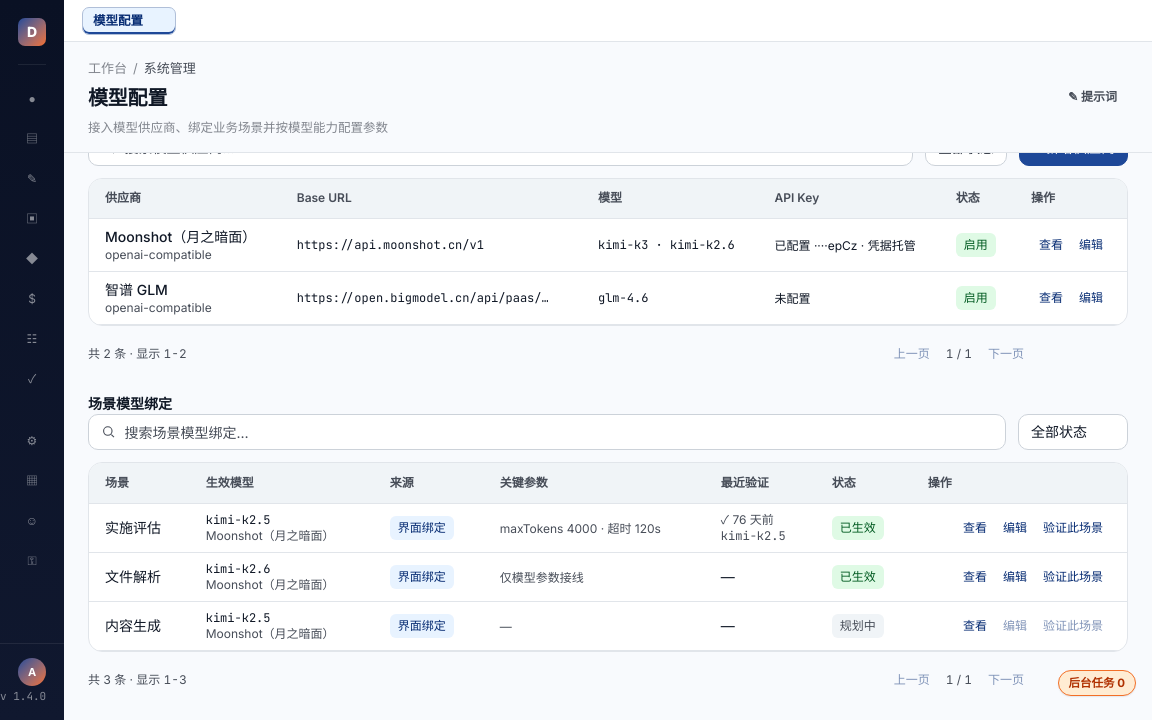
it: ModelConfig · 表格 + 行详情（RP-053） › 明确查看入口打开统一详情，保留接线与差异并可关闭
(page scrolled)
Click the button with aria-label "查看 实施评估" at point(975, 528), box [955,512,995,544]
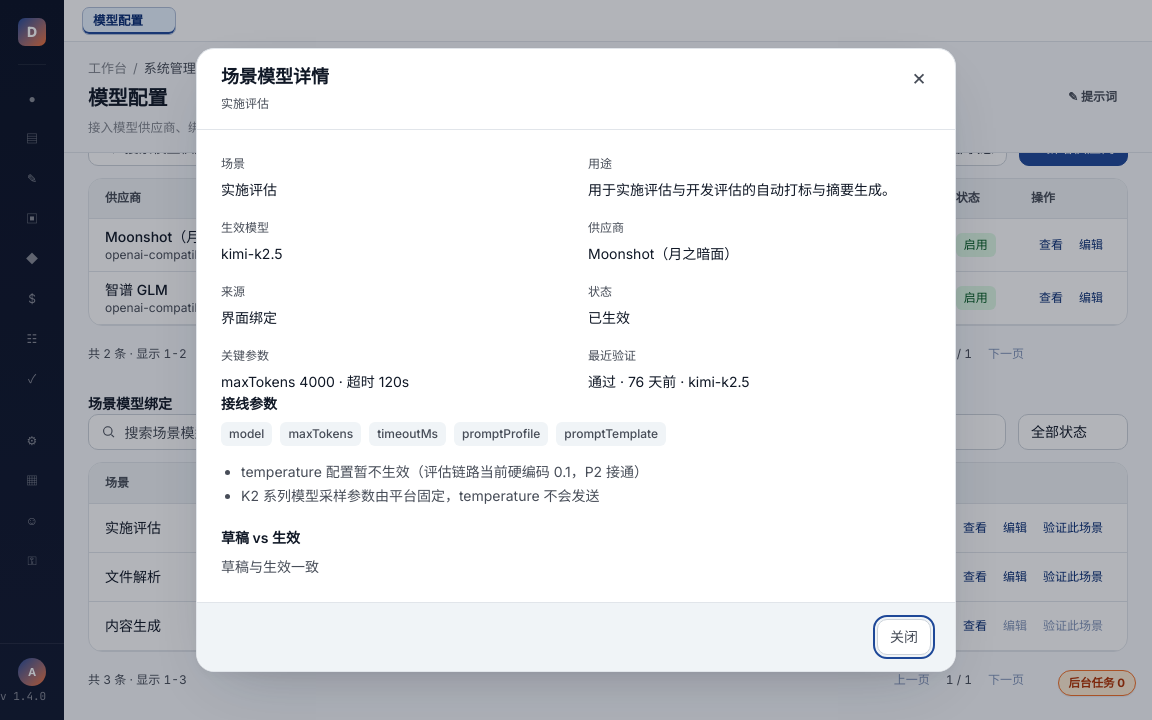
Check: the dialog "场景模型详情" is shown, box [196,48,956,672]
Check: the heading "接线参数" is shown, box [221,395,277,412]
Check: the text "maxTokens" is shown, box [280,422,361,446]
Click the button "关闭" at point(904, 637), box [877,619,931,655]
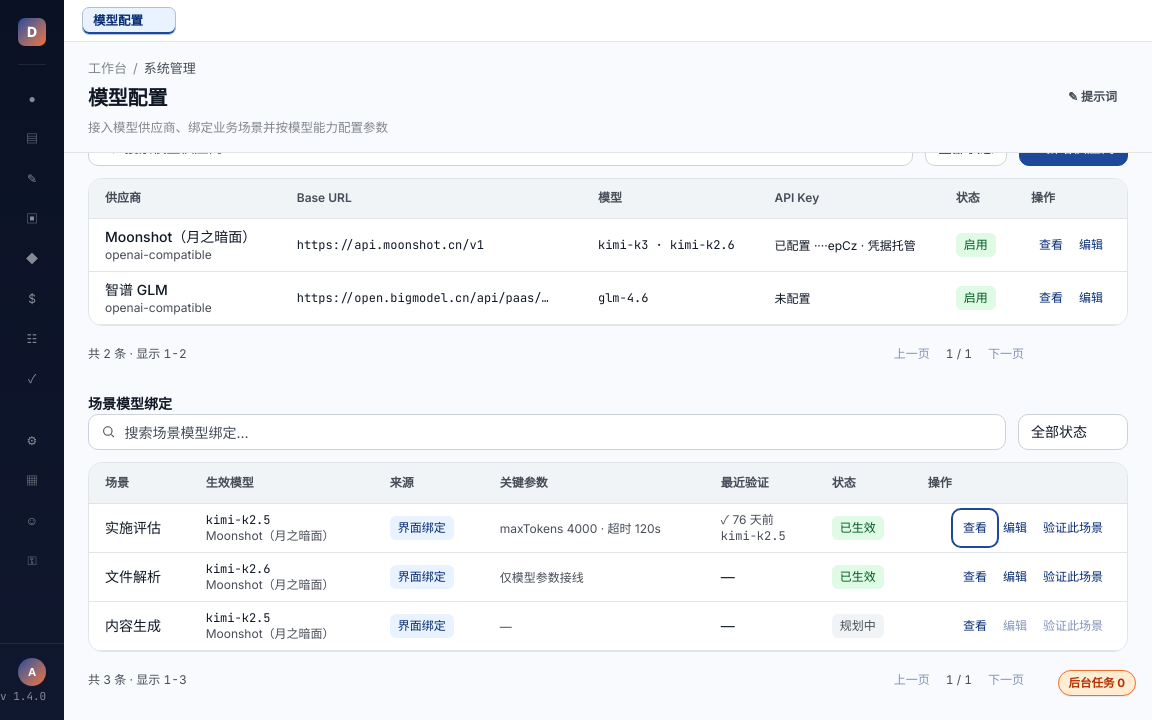
Check: the heading "接线参数" is gone
